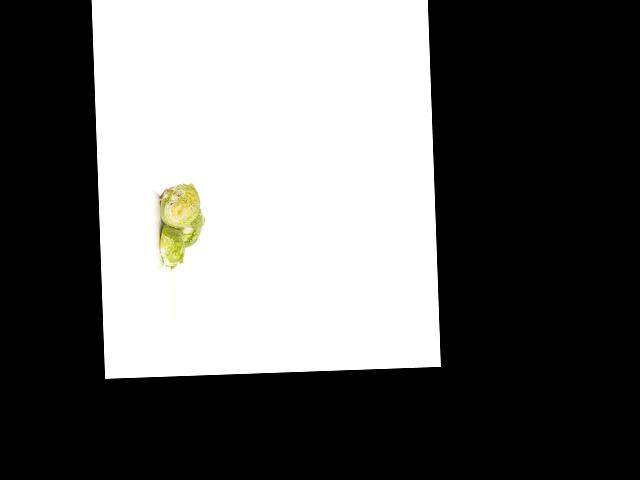lettuce: (175, 204, 207, 251)
